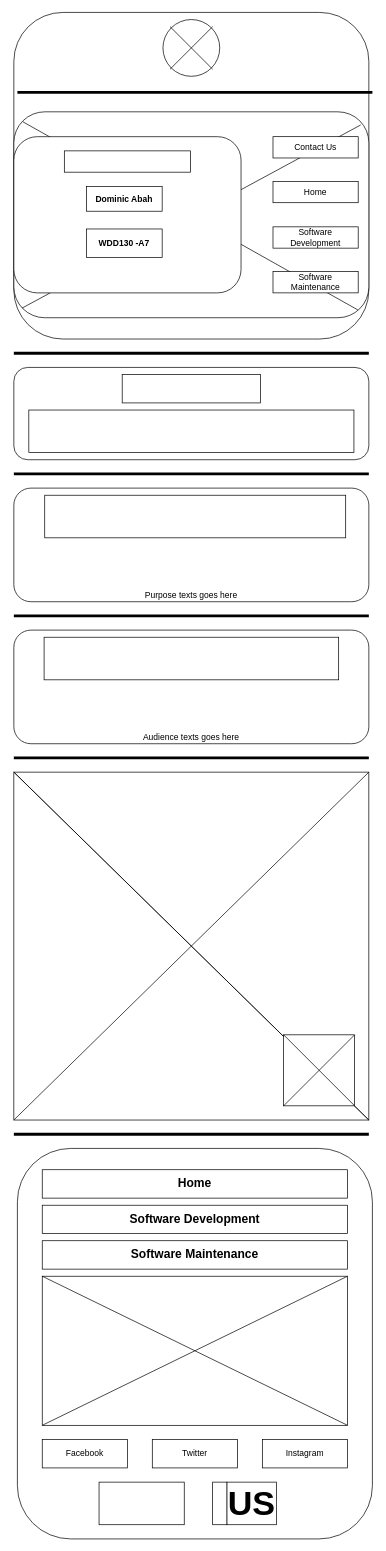
This 386x1551 diagram has some shape labels left out. The centre of each missing label's shape, as x and y in pixels:
"Audience" goes at (x=191, y=658).
"CONTACT" goes at (x=219, y=1503).
"Copy Right & Date" goes at (x=141, y=1503).
"Overview" goes at (x=190, y=388).
"Overview texts goes here" goes at (x=191, y=431).
"Purpose" goes at (x=195, y=516).
"RainMaykr Soft-solution" goes at (x=127, y=161).
